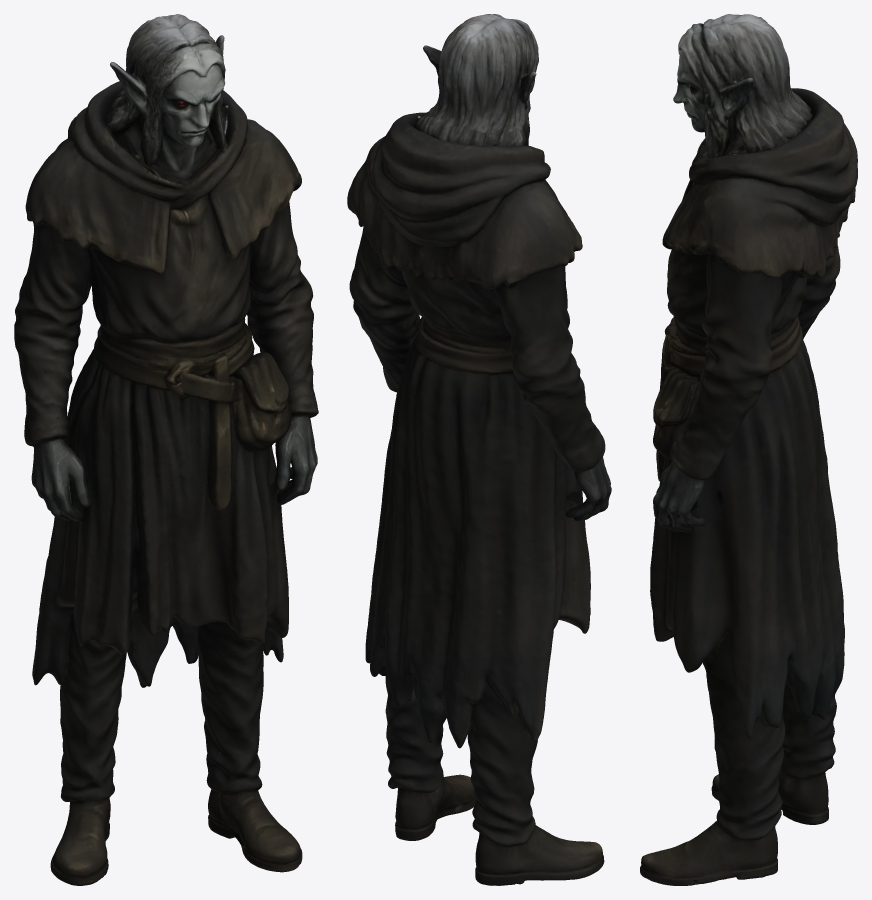
File: darkelf1.glb
3 views of the same model, side by side, from view 1: azimuth 30°, elevation 25°; view 2: azimuth 150°, elevation 25°; view 3: azimuth 270°, elevation 25° (orthographic).
Size of the model in its own units: 0.6324 by 1.9 by 0.4573.
1 material, 1 textured.
